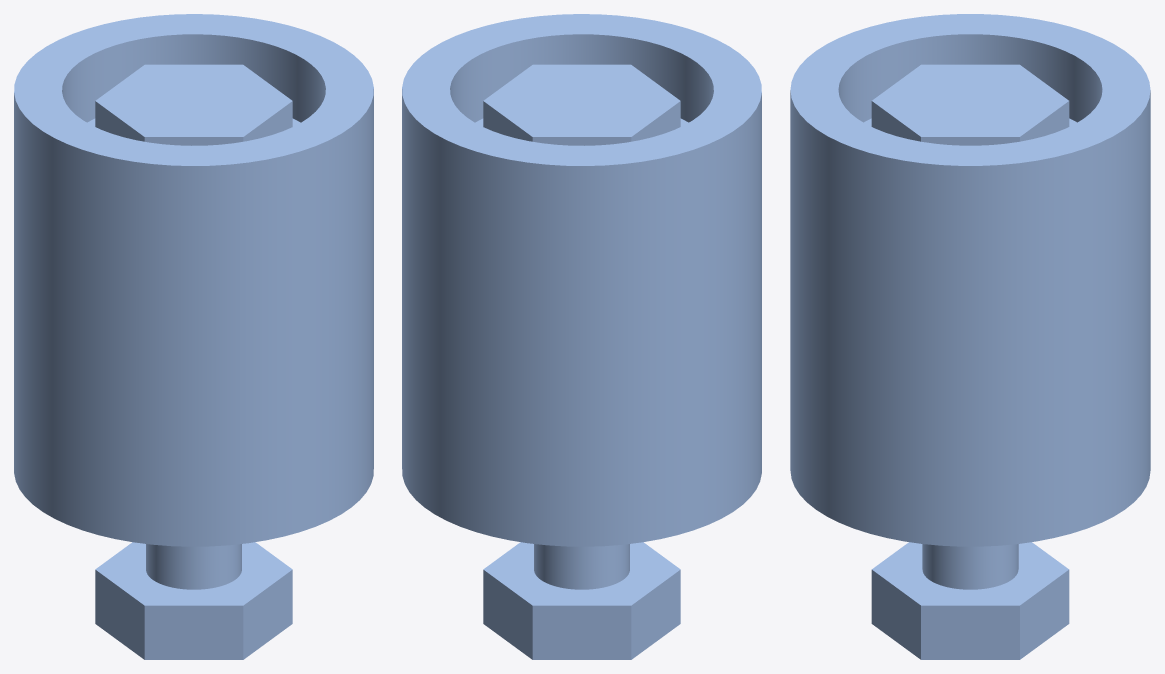
File: tensioner_rotary.gltf
3 views of the same model, side by side, from view 1: azimuth 30°, elevation 25°; view 2: azimuth 150°, elevation 25°; view 3: azimuth 270°, elevation 25° (orthographic).
Parts seen in each view (by area): view 1: rotary tensioner idler; view 2: rotary tensioner idler; view 3: rotary tensioner idler.
Part boxes in pixels (x1,y1,x2,y2): rotary tensioner idler: [14, 14, 373, 659]; rotary tensioner idler: [402, 14, 761, 659]; rotary tensioner idler: [790, 14, 1150, 659].
Size of the model in its own units: 0.03 by 0.0491 by 0.03.
